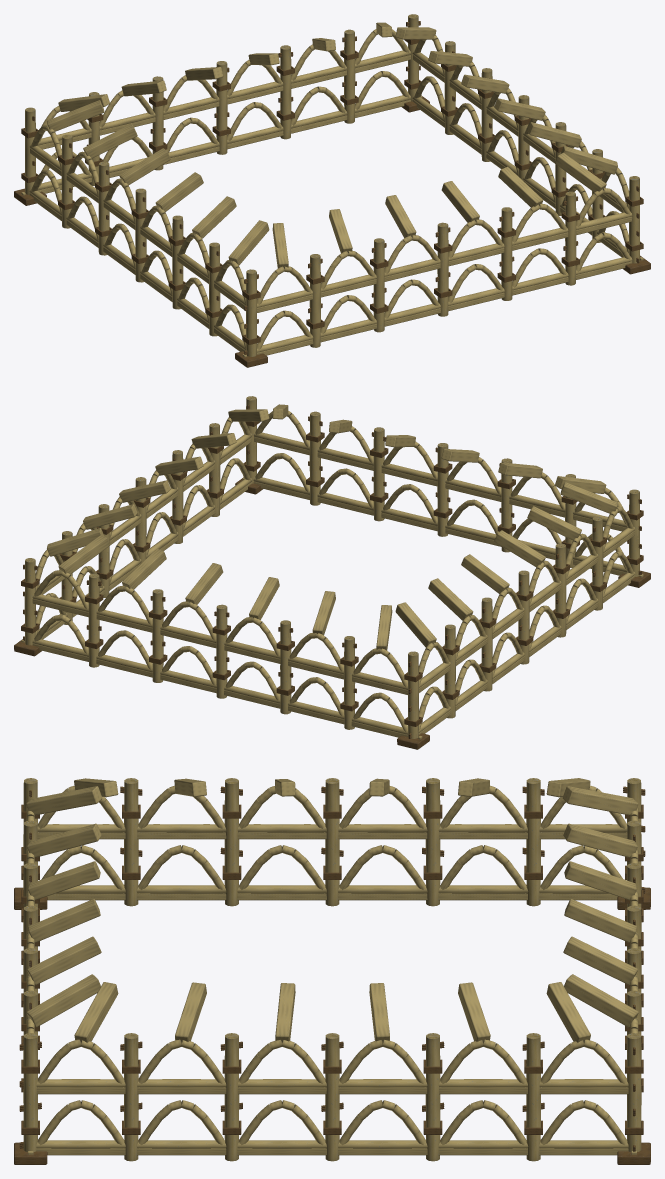
3 views of the same model, one above another, from view 1: azimuth 30°, elevation 25°; view 2: azimuth 150°, elevation 25°; view 3: azimuth 270°, elevation 25° (orthographic). The views are drawn at different scales.
Parts seen in each view (by area): view 1: Tier 0 side 0 post 4, Tier 0 side 0 post 3, Tier 0 side 2 post 2, Tier 0 side 0 post 5, Tier 0 side 0 post 2, Tier 0 side 2 post 1, Tier 0 side 2 post 3, Tier 0 side 0 post 1, Tier 0 side 0 post 0, Tier 0 side 3 post 3, Tier 0 side 3 post 2, Tier 0 side 3 post 4 (+29 smaller); view 2: Tier 0 side 2 post 2, Tier 0 side 2 post 1, Tier 0 side 0 post 4, Tier 0 side 2 post 3, Tier 0 side 2 post 4, Tier 0 side 0 post 5, Tier 0 side 0 post 3, Tier 0 side 2 post 5, Tier 0 side 2 post 0, Tier 0 side 3 post 0, Tier 0 side 3 post 3, Tier 0 side 3 post 4 (+29 smaller); view 3: Tier 0 side 1 post 1, Tier 0 side 3 post 5, Tier 0 side 3 post 3, Tier 0 side 3 post 1, Tier 0 side 1 post 5, Tier 0 side 1 post 3, Tier 0 side 1 post 4, Tier 0 side 3 post 2, Tier 0 side 1 post 2, Tier 0 side 3 post 4, Tier 0 side 1 post 0, Crown petal 2-0 (+61 smaller).
Part boxes in pixels (x1,y1,x2,y2): Tier 0 side 0 post 4: (501,207,512,300); Tier 0 side 0 post 3: (437,222,448,316); Tier 0 side 2 post 2: (280,45,291,139); Tier 0 side 0 post 5: (565,191,576,285); Tier 0 side 0 post 2: (373,238,384,332); Tier 0 side 2 post 1: (344,29,355,123); Tier 0 side 2 post 3: (216,61,227,154); Tier 0 side 0 post 1: (309,254,320,347); Tier 0 side 0 post 0: (246,269,256,356); Tier 0 side 3 post 3: (135,188,146,282); Tier 0 side 3 post 2: (98,161,109,255); Tier 0 side 3 post 4: (172,215,183,309); Tier 0 side 2 post 2: (152,589,163,682); Tier 0 side 2 post 1: (88,573,99,667); Tier 0 side 0 post 4: (373,427,384,521); Tier 0 side 2 post 3: (216,604,227,698); Tier 0 side 2 post 4: (280,620,291,714); Tier 0 side 0 post 5: (309,411,320,505); Tier 0 side 0 post 3: (437,443,448,536); Tier 0 side 2 post 5: (344,636,355,729); Tier 0 side 2 post 0: (24,558,35,645); Tier 0 side 3 post 0: (408,651,418,738); Tier 0 side 3 post 3: (518,570,529,664); Tier 0 side 3 post 4: (555,543,566,637); Tier 0 side 1 post 1: (124,1033,138,1161); Tier 0 side 3 post 5: (124,778,138,906); Tier 0 side 3 post 3: (325,778,339,906); Tier 0 side 3 post 1: (526,778,540,906); Tier 0 side 1 post 5: (526,1033,540,1161); Tier 0 side 1 post 3: (325,1033,339,1161); Tier 0 side 1 post 4: (425,1033,440,1161); Tier 0 side 3 post 2: (425,778,440,906); Tier 0 side 1 post 2: (224,1033,239,1161); Tier 0 side 3 post 4: (224,778,239,906); Tier 0 side 1 post 0: (23,1033,37,1151); Crown petal 2-0: (564,974,638,1027).
Size of the model in its own units: 2.85 by 0.732 by 2.85.
Materials: 2 (2 with a texture image).
